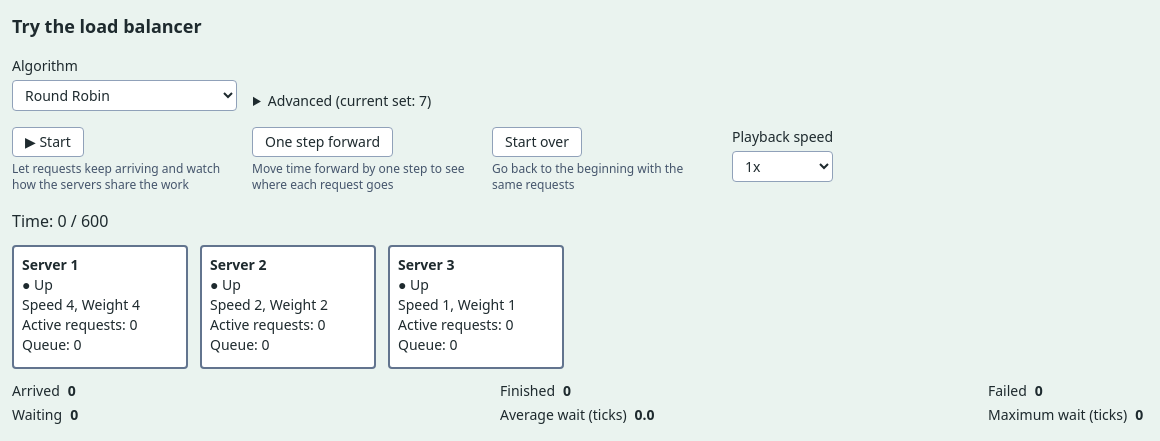
it: plain-language simulation controls › T1/T2: load balancing buttons and hints in en
What coordinates should you click on to do the following:
click the button "▶ Start"
I would click on:
 (48, 142)
Its box is [12,127,84,157].
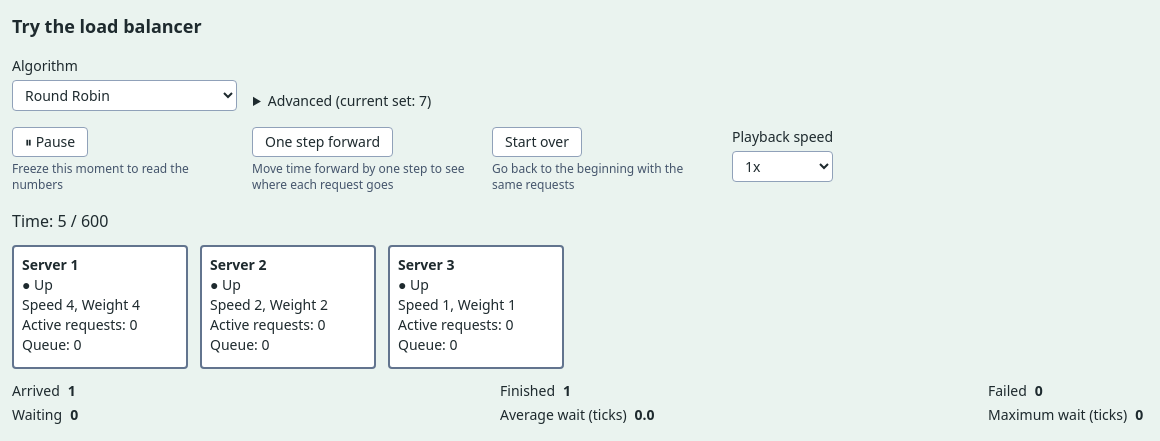
expect the text "Freeze this moment to read the numbers" is shown: met, box [12,160,189,193]
